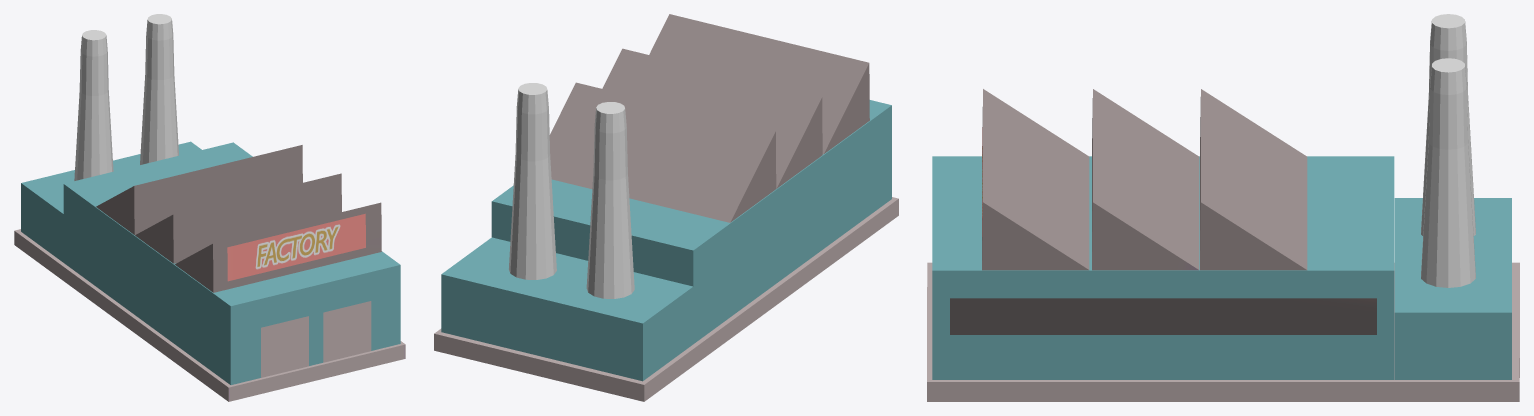
Rendered from factory (1).fbx.
3 renders of one model, left to right at view 1: azimuth 30°, elevation 25°; view 2: azimuth 150°, elevation 25°; view 3: azimuth 270°, elevation 25°, orthographic. The views are drawn at different scales.
Visible parts, largest first — view 1: Cube.003, Cylinder.003, Plane.003, Cylinder.001, Cube.005, Cube.004; view 2: Cylinder.003, Cube.003, Cube.004, Cylinder.001, Cube.005; view 3: Cube.003, Cylinder.003, Cube.004, Plane.003, Cube.005, Cylinder.001.
Part boxes in pixels (x1,y1,x2,y2): Cube.003: (63, 142, 400, 384); Cylinder.003: (96, 145, 381, 292); Plane.003: (227, 213, 371, 377); Cylinder.001: (74, 14, 178, 180); Cube.005: (14, 229, 405, 401); Cube.004: (21, 141, 201, 262); Cylinder.003: (549, 14, 869, 222); Cube.003: (491, 100, 891, 343); Cube.004: (441, 237, 693, 381); Cylinder.001: (509, 83, 634, 298); Cube.005: (434, 197, 898, 401); Cube.003: (932, 156, 1394, 379); Cylinder.003: (982, 89, 1307, 270); Cube.004: (1394, 198, 1511, 379); Plane.003: (950, 127, 1376, 334); Cube.005: (927, 262, 1519, 401); Cylinder.001: (1421, 14, 1475, 287).
Bounding box in the file's own units: 78.2 × 90.98 × 164.
Materials: 6 (5 with a texture image).
